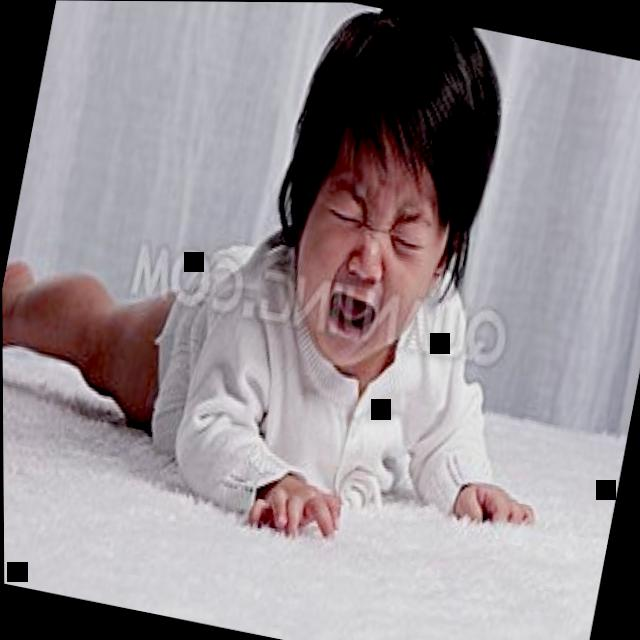Fall-Detected: (0, 0, 638, 625)
